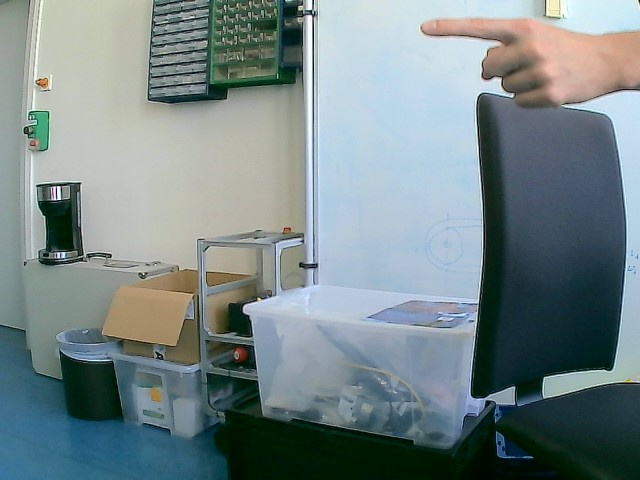right: (419, 16, 639, 110)
